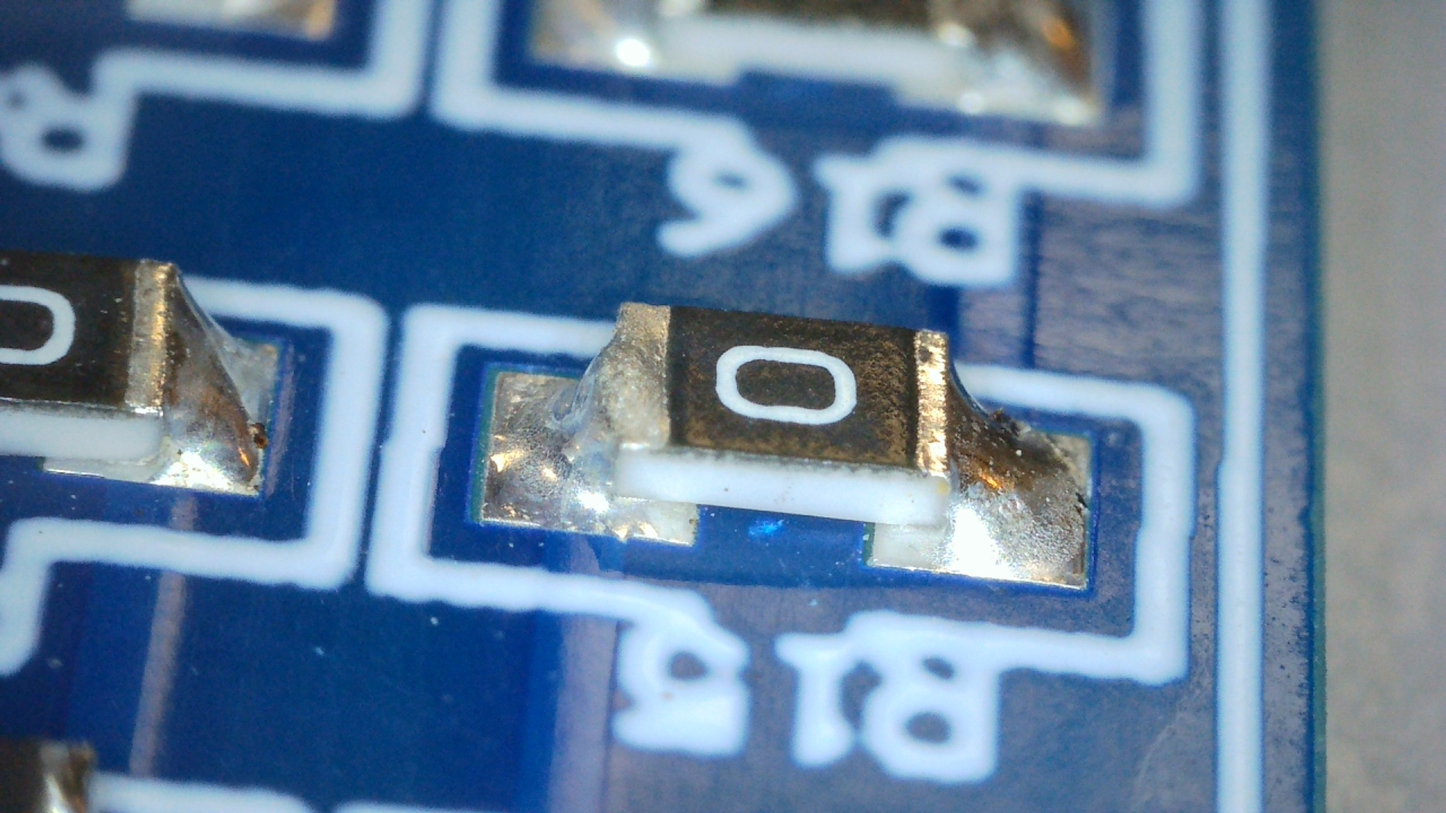NG: (497, 304, 668, 537)
OK: (917, 330, 1083, 573)
